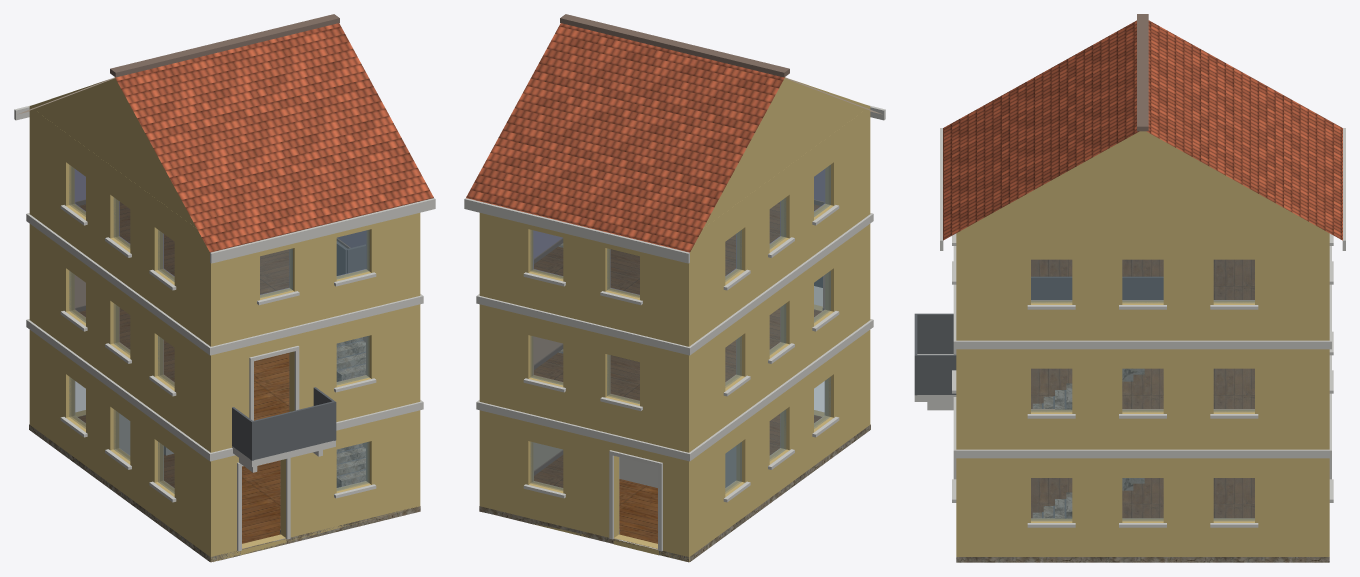
File: cove-house-yellow.zfix-v7.lod0.glb
3 views of the same model, side by side, from view 1: azimuth 30°, elevation 25°; view 2: azimuth 150°, elevation 25°; view 3: azimuth 270°, elevation 25° (orthographic). The views are drawn at different scales.
Visible parts, largest first — view 1: cove-house-yellow; view 2: cove-house-yellow; view 3: cove-house-yellow.
Boxes of the visible parts, x1,y1,x2,y2 form: cove-house-yellow: [14, 14, 435, 562]; cove-house-yellow: [464, 14, 885, 562]; cove-house-yellow: [914, 14, 1345, 562].
Bounding box in the file's own units: 6.42 × 11.7 × 10.41.
5 materials, 3 textured.
